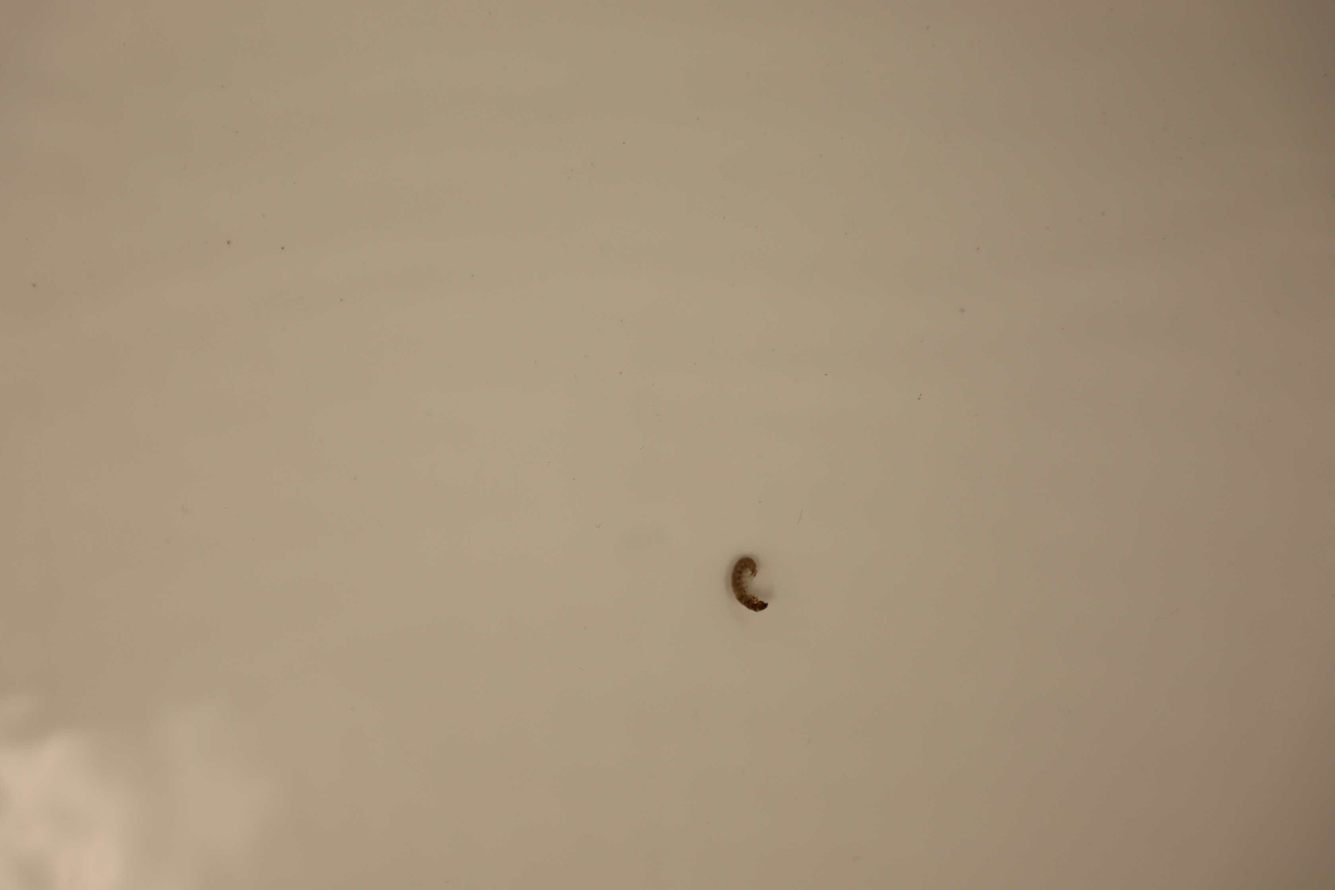Cadisfly: (723, 553, 771, 613)
